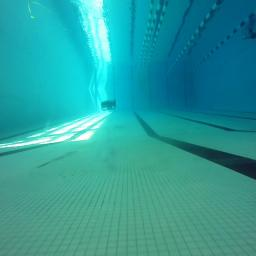Side: (101, 100, 116, 111)
